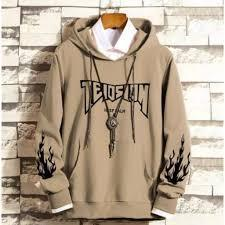sweater: (33, 16, 196, 222)
